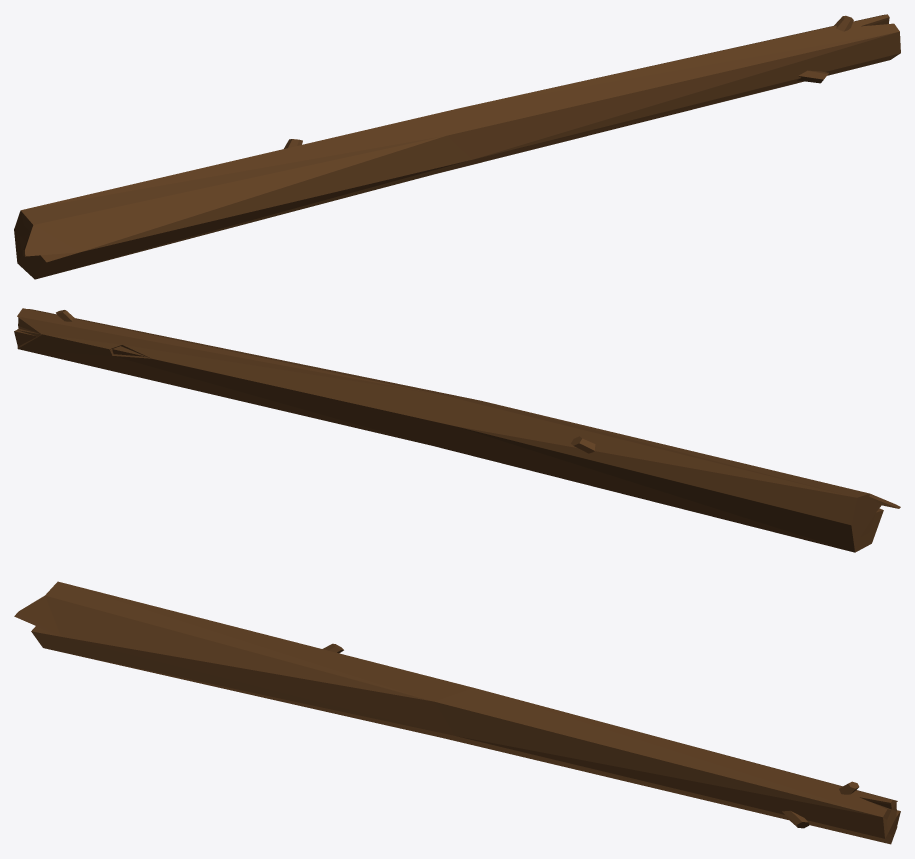
The model's file is SM_Tree_Beech_Log_A.fbx.
3 views of the same model, one above another, from view 1: azimuth 30°, elevation 25°; view 2: azimuth 150°, elevation 25°; view 3: azimuth 330°, elevation 25° (orthographic). The views are drawn at different scales.
Visible parts, largest first — view 1: tree-beech-log-a; view 2: tree-beech-log-a; view 3: tree-beech-log-a.
Boxes of the visible parts, <box> form: tree-beech-log-a: <box>14,14,900,279</box>; tree-beech-log-a: <box>14,308,900,552</box>; tree-beech-log-a: <box>14,581,900,844</box>.
Size of the model in its own units: 4.74 by 0.3017 by 0.3604.
